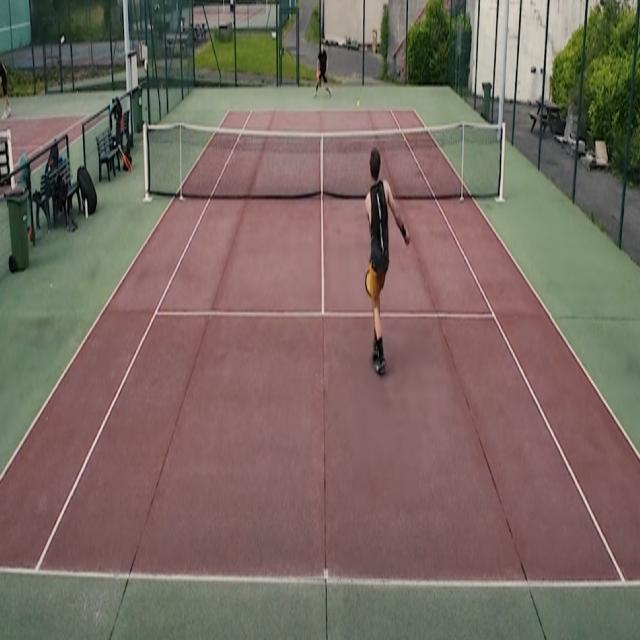ball: (357, 100, 360, 107)
